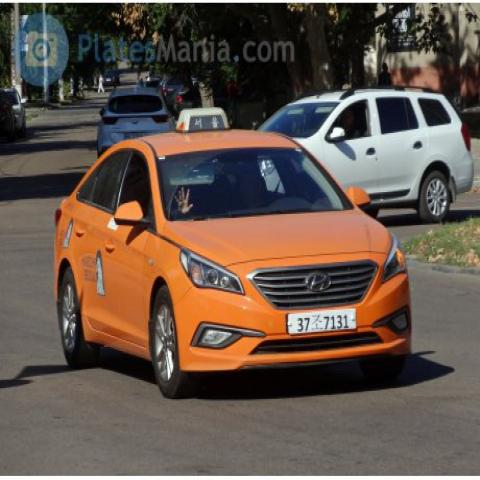LP: (285, 306, 363, 340)
